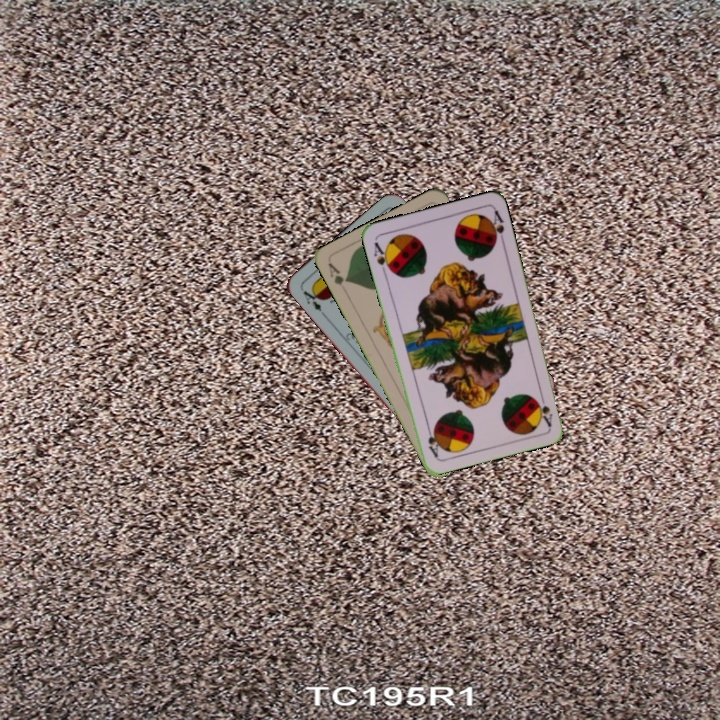EA: (297, 284, 325, 314)
GA: (324, 259, 351, 288)
SA: (369, 238, 394, 277), (533, 388, 555, 429)
